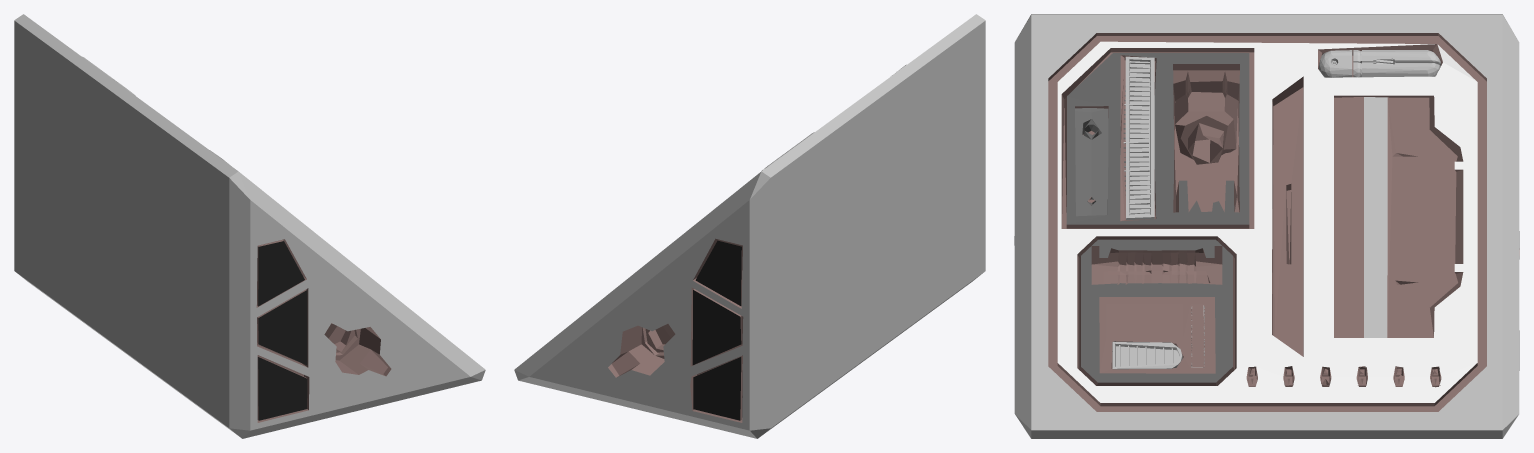
File: SmallPanel3.fbx
3 views of the same model, side by side, from view 1: azimuth 30°, elevation 25°; view 2: azimuth 150°, elevation 25°; view 3: azimuth 270°, elevation 25° (orthographic). The views are drawn at different scales.
Parts seen in each view (by area): view 1: Cube.002; view 2: Cube.002; view 3: Cube.002.
Part boxes in pixels (x1,y1,x2,y2): Cube.002: (14, 14, 485, 438); Cube.002: (514, 14, 985, 438); Cube.002: (1014, 14, 1519, 438).
Size of the model in its own units: 193 by 193 by 300.
